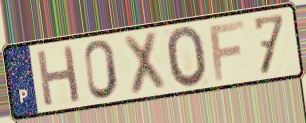0: (82, 38, 120, 101)
7: (252, 11, 287, 77)
F: (207, 18, 247, 84)
H: (34, 43, 83, 110)
O: (164, 24, 210, 91)
X: (120, 29, 169, 98)
